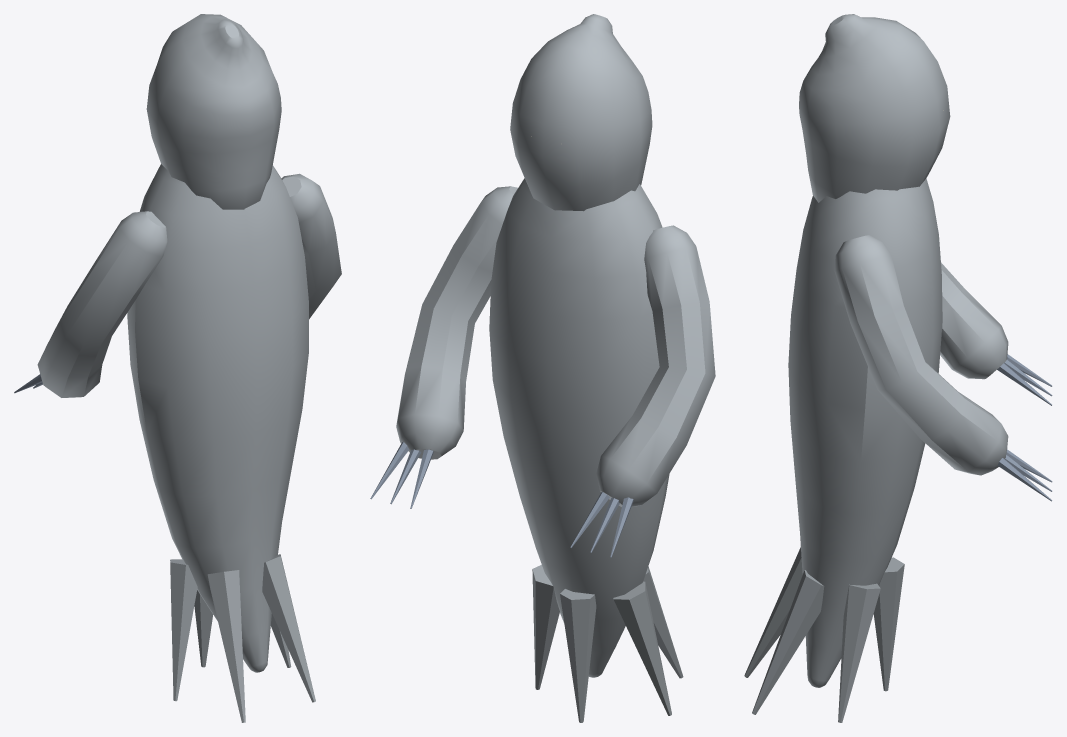
The model's file is gale_spirit.gltf.
The picture shows the model from 3 angles, left to right: view 1: azimuth 30°, elevation 25°; view 2: azimuth 150°, elevation 25°; view 3: azimuth 270°, elevation 25°; orthographic projection. The views are drawn at different scales.
Visible parts, largest first — view 1: Pulse, ArmL, ArmR; view 2: Pulse, ArmL, ArmR; view 3: Pulse, ArmR, ArmL.
Part boxes in pixels (<box>): Pulse: <box>127,14,315,722</box>; ArmL: <box>14,211,167,397</box>; ArmR: <box>281,173,341,319</box>; Pulse: <box>489,14,683,722</box>; ArmL: <box>570,225,715,557</box>; ArmR: <box>370,186,517,508</box>; Pulse: <box>744,14,950,722</box>; ArmR: <box>834,235,1052,501</box>; ArmL: <box>940,262,1052,405</box>.
Size of the model in its own units: 0.8665 by 1.99 by 0.8172.
